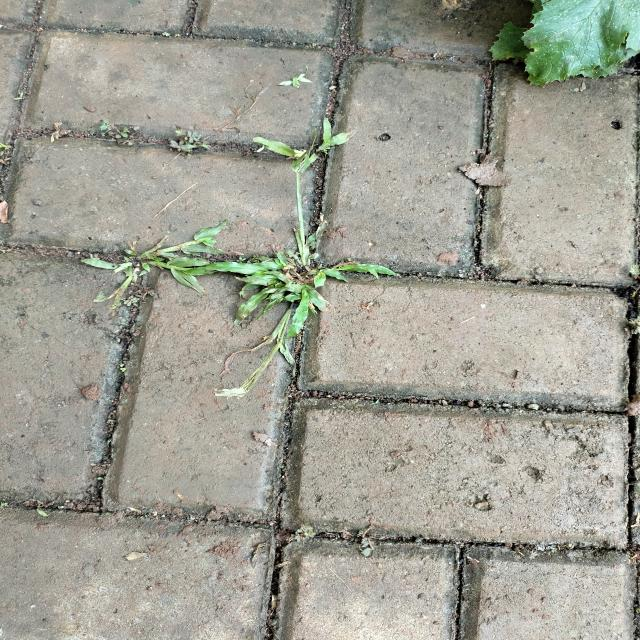buah daun: (289, 522, 318, 544), (171, 127, 205, 144), (627, 263, 640, 278)
rambat bawah: (218, 221, 399, 340), (79, 216, 231, 309), (246, 114, 358, 170)
tunggang tengah: (98, 118, 133, 142)
